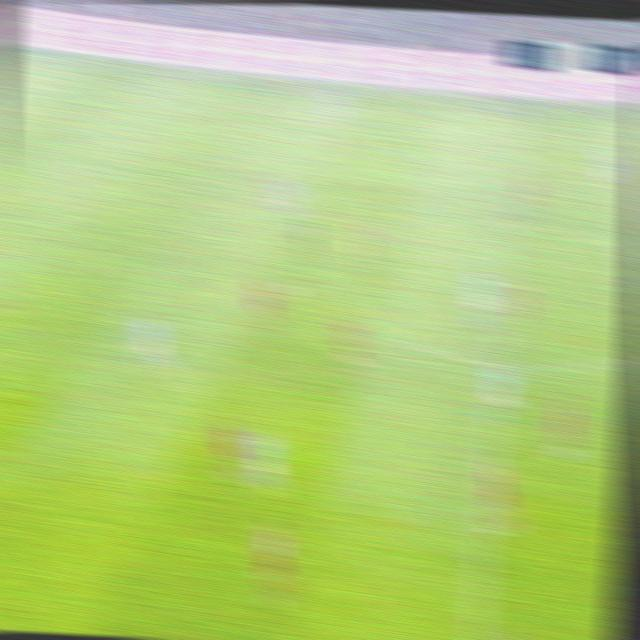bigarea_top_inner: (13, 96, 44, 120)
halfcircle_top: (493, 205, 532, 240)
midline_top_intersection: (504, 94, 538, 123)
